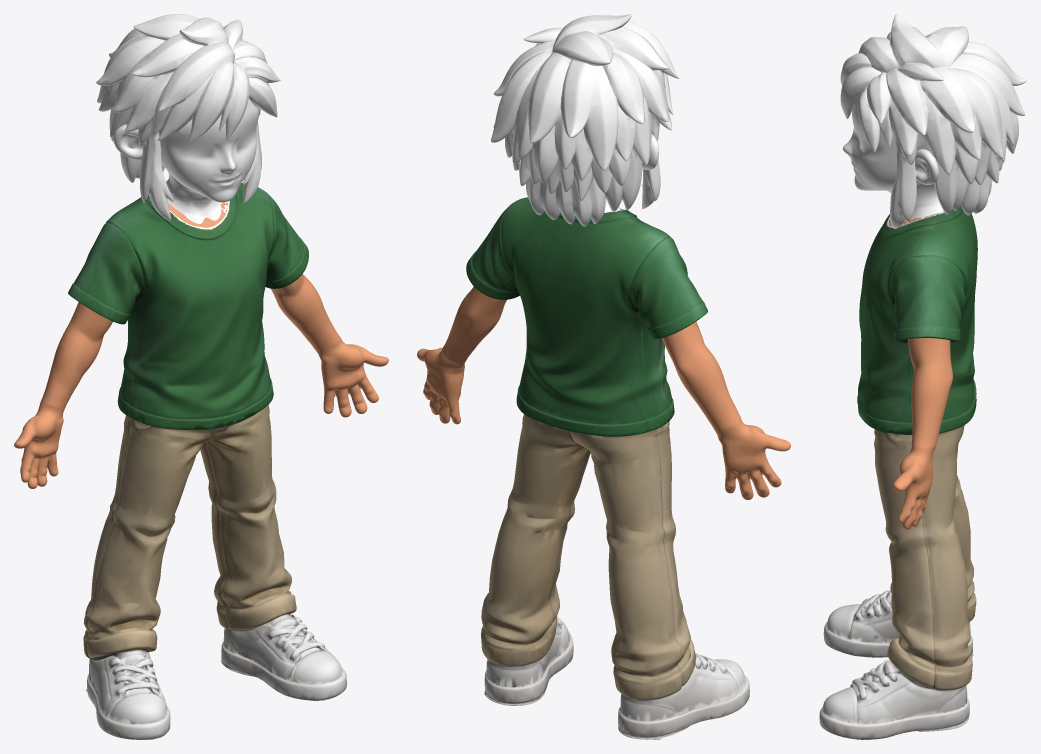
The picture shows the model from 3 angles, left to right: view 1: azimuth 30°, elevation 25°; view 2: azimuth 150°, elevation 25°; view 3: azimuth 270°, elevation 25°; orthographic projection. The views are drawn at different scales.
Parts seen in each view (by area): view 1: Iam_malla; view 2: Iam_malla; view 3: Iam_malla.
Boxes of the visible parts, x1,y1,x2,y2 form: Iam_malla: (14, 14, 388, 739); Iam_malla: (417, 14, 790, 739); Iam_malla: (819, 14, 1026, 739).
Bounding box in the file's own units: 0.5722 × 0.9943 × 0.2826.
Materials: 6 (5 with a texture image).
